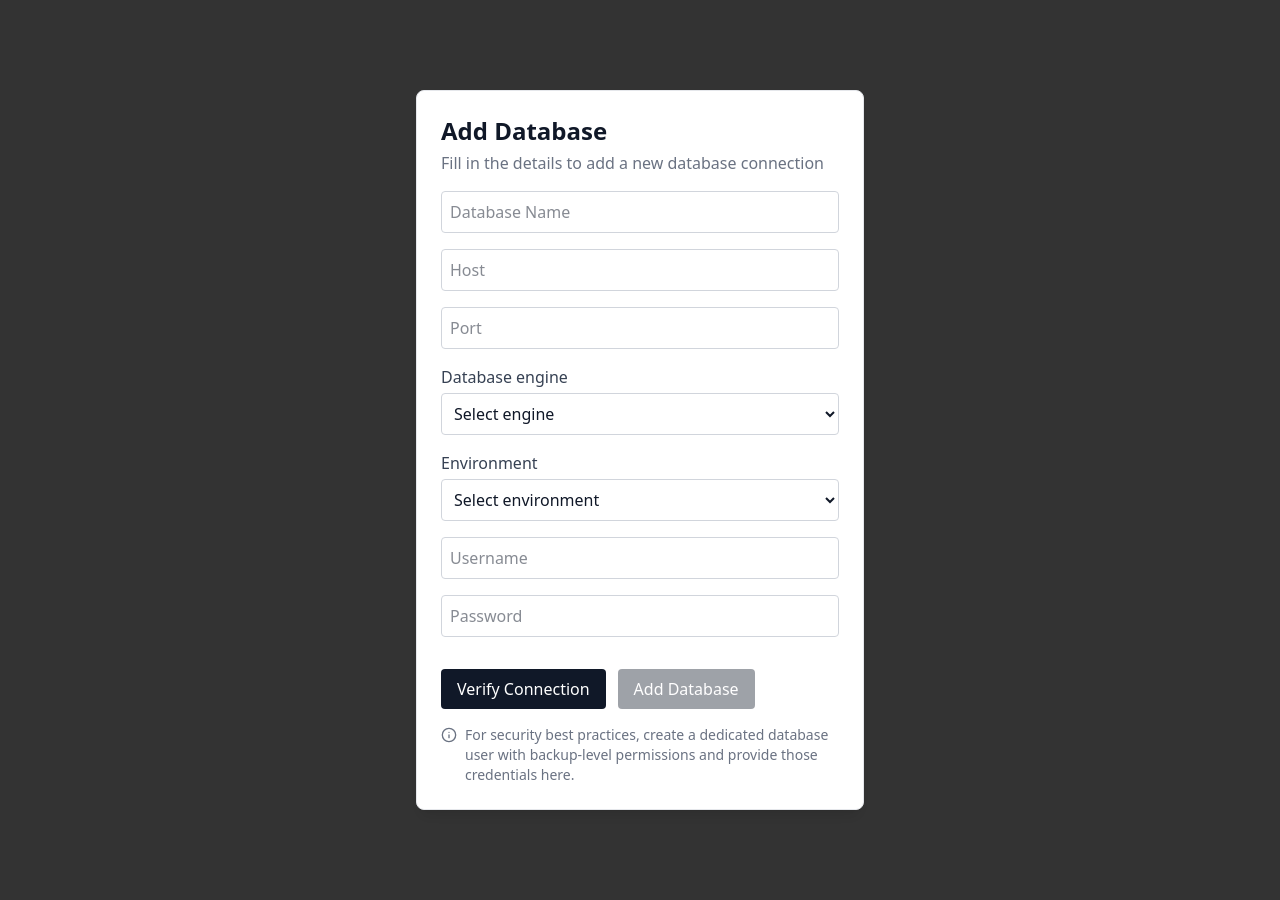
Test: AddDatabaseModal › conditionally shows and hides SSL Mode based on the selected engine
Expected: the field labelled "ssl mode" is not shown
Select "PostgreSQL" in the dropdown labelled "Database engine". click: x=640, y=414
box: [441,393,839,435]
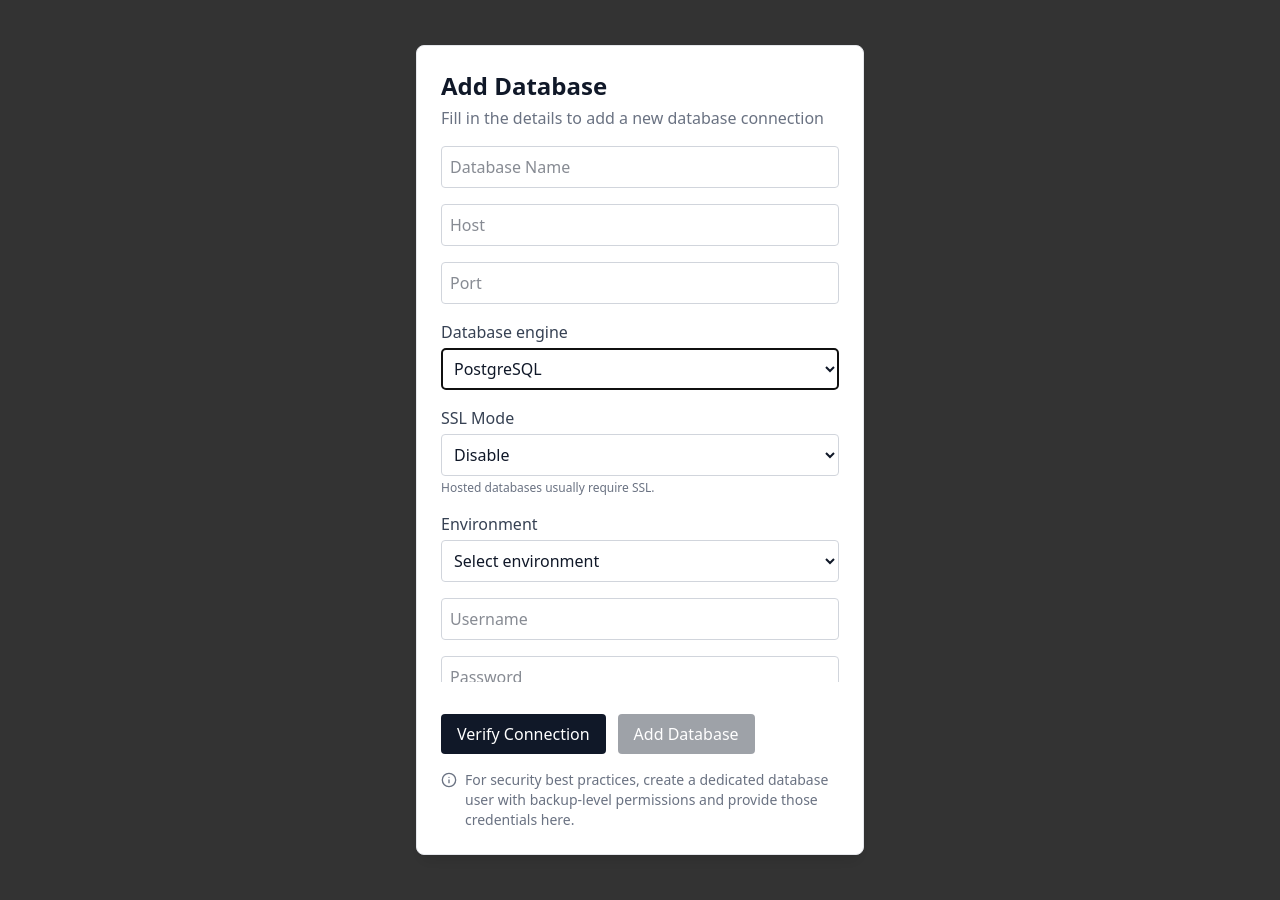
Expected: the dropdown labelled "SSL Mode" is shown, [441,434,839,476]
Select "MongoDB" in the dropdown labelled "Database engine". click: x=640, y=369
box: [441,348,839,390]
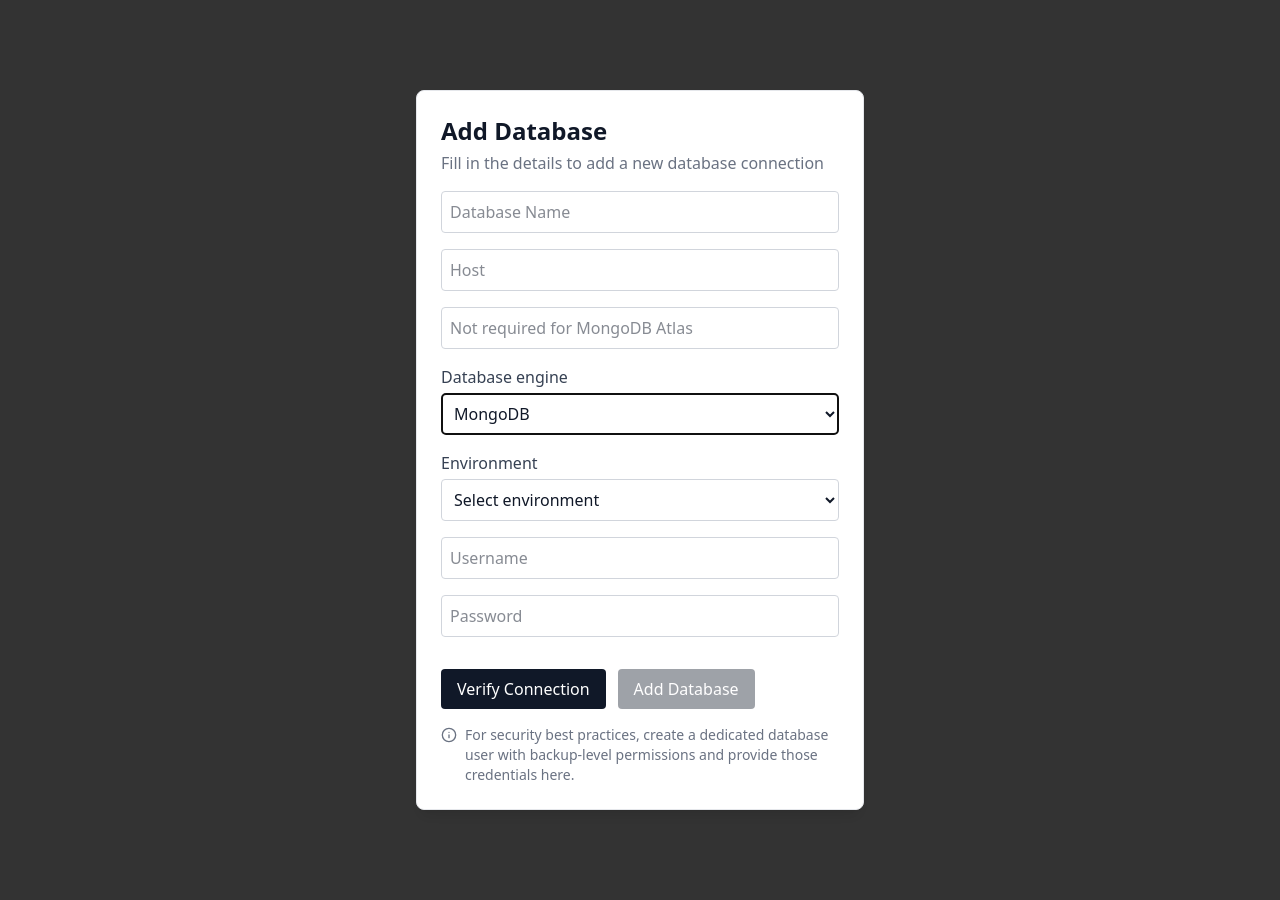
Expected: the label labelled "SSL Mode" is gone
Expected: the number field with placeholder "Not required for MongoDB Atlas" is shown, [441,307,839,349]
